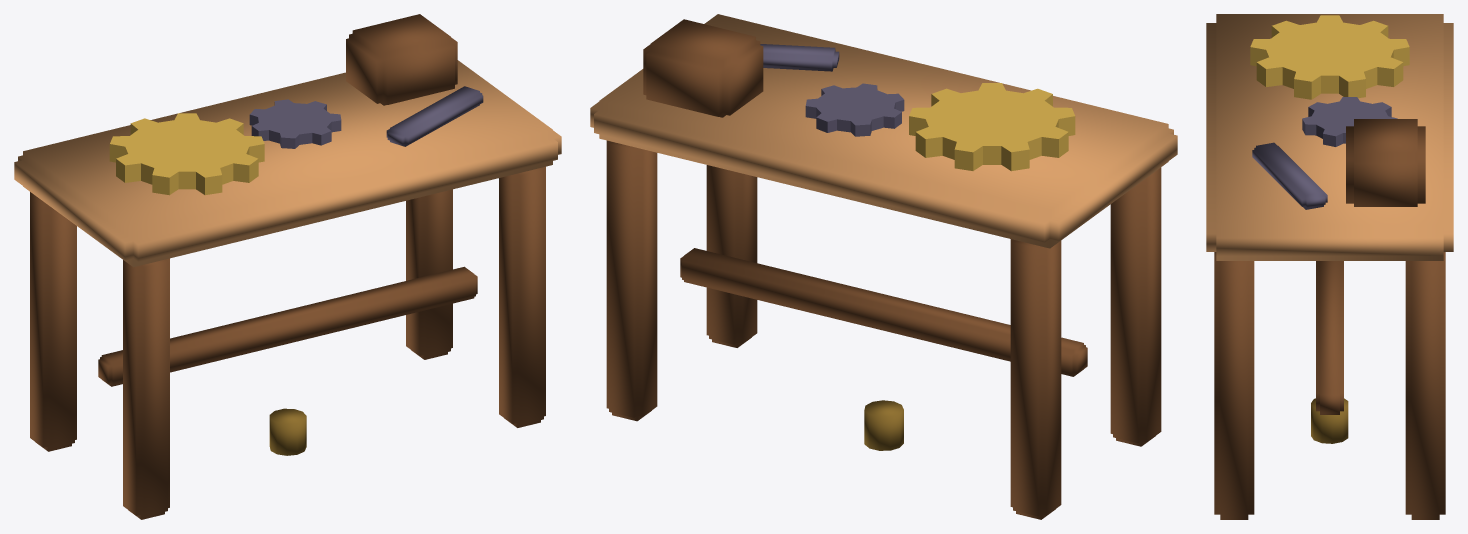
File: bancada.glb
3 renders of one model, left to right at view 1: azimuth 30°, elevation 25°; view 2: azimuth 150°, elevation 25°; view 3: azimuth 270°, elevation 25°, orthographic. The views are drawn at different scales.
Parts seen in each view (by area): view 1: Bancada; view 2: Bancada; view 3: Bancada.
Boxes of the visible parts, bbox=[...] form: Bancada: bbox=[14, 14, 561, 519]; Bancada: bbox=[590, 14, 1177, 519]; Bancada: bbox=[1206, 14, 1453, 519].
Size of the model in its own units: 1.3 by 1.02 by 0.62.
